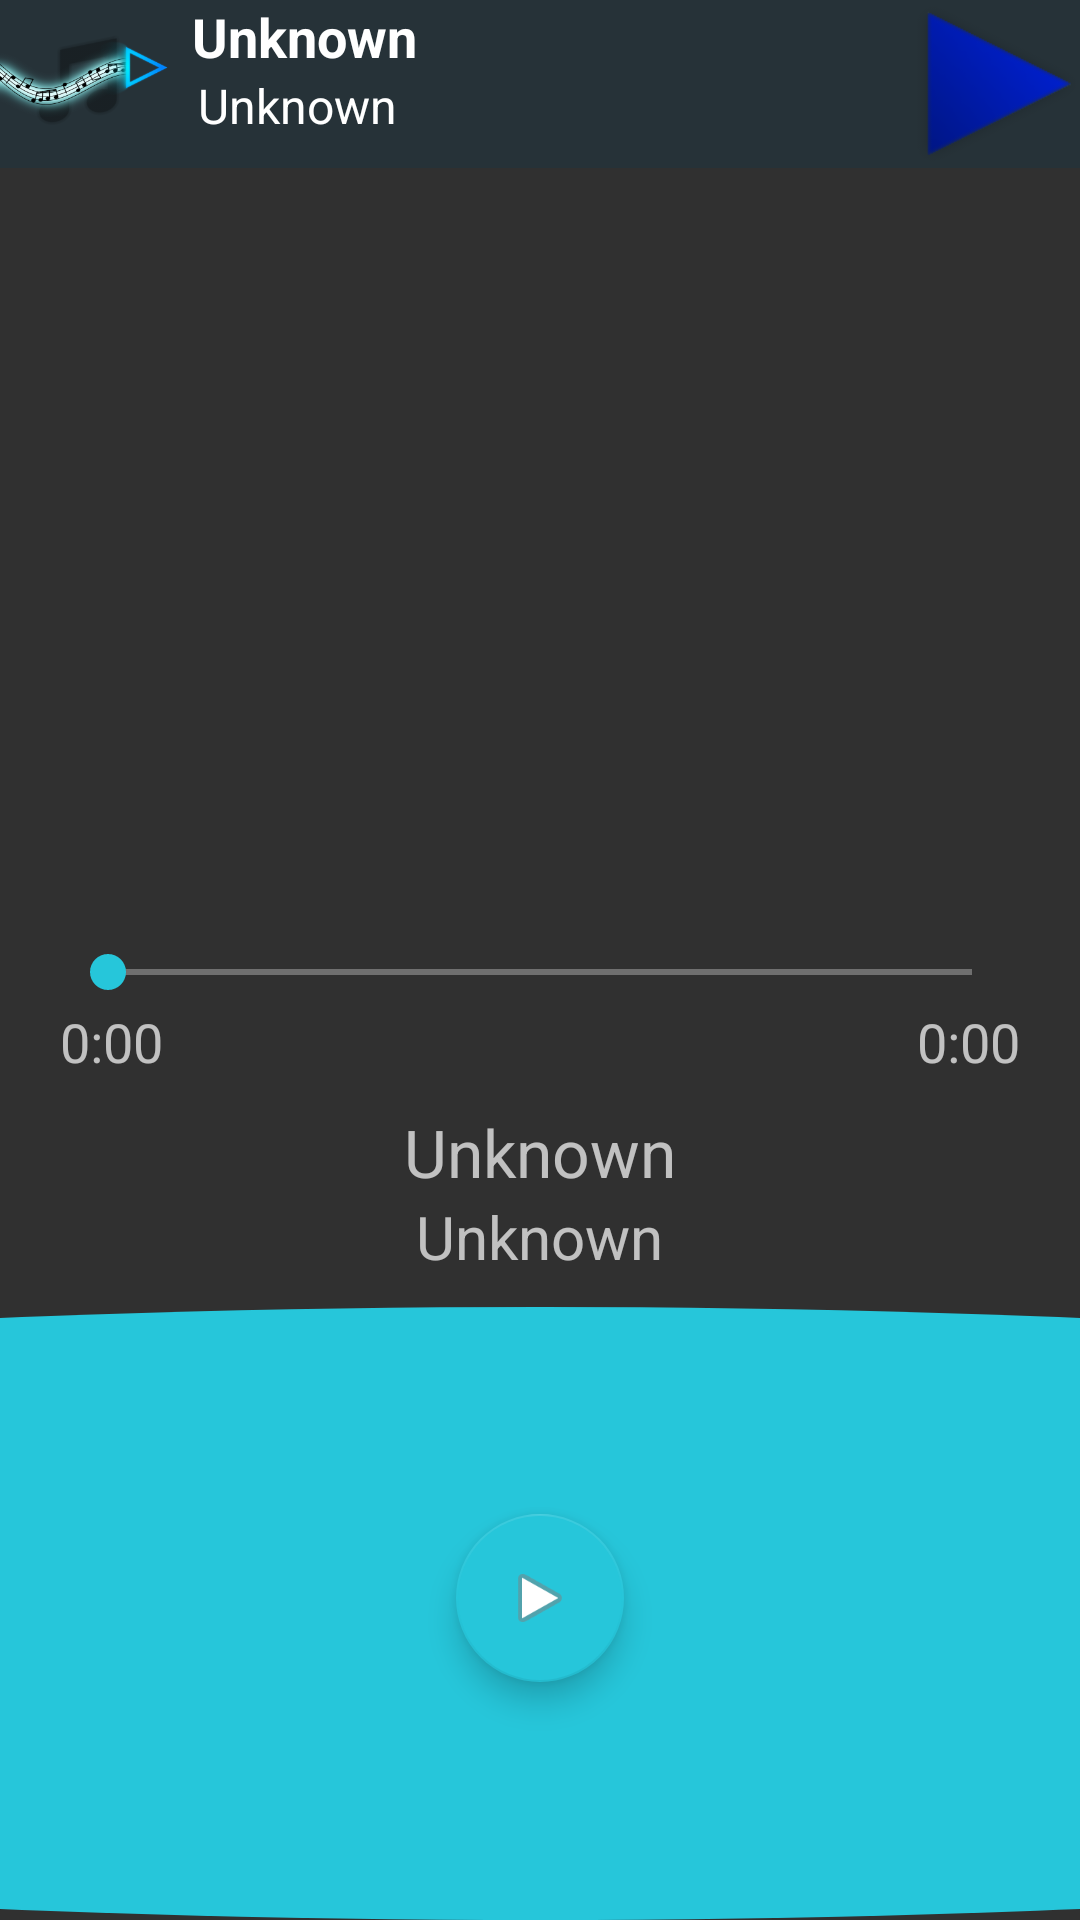

Locate icon controls on the screen. Image size 1080x1920, boxes as (left=x1, top=y1, right=x2, bottom=y2).
no album: (left=0, top=45, right=167, bottom=108)
play: (left=459, top=1514, right=621, bottom=1625)
